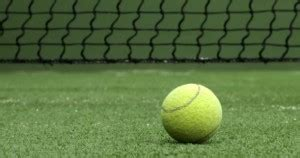tennis_ball: (161, 83, 222, 143)
